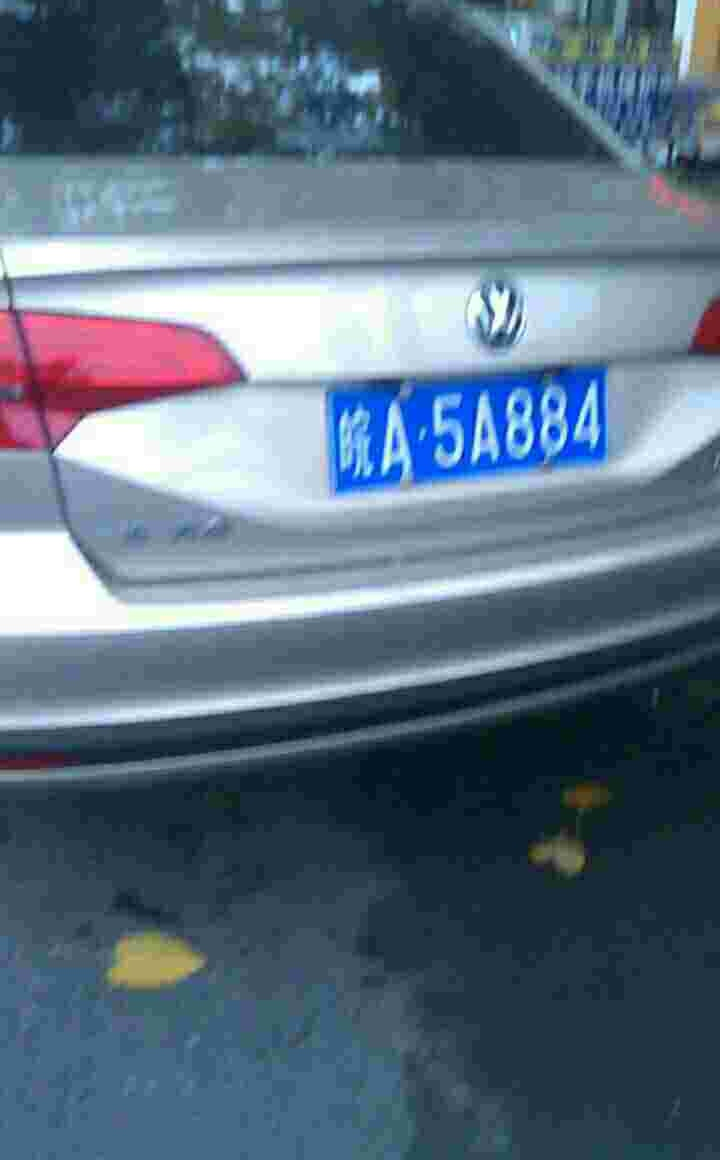license_plate: (336, 367, 614, 500)
